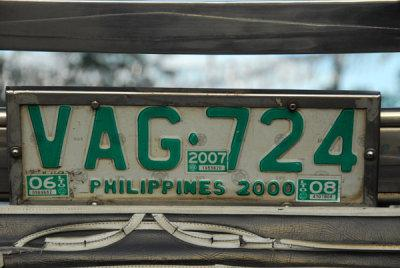plate: (13, 91, 369, 206)
